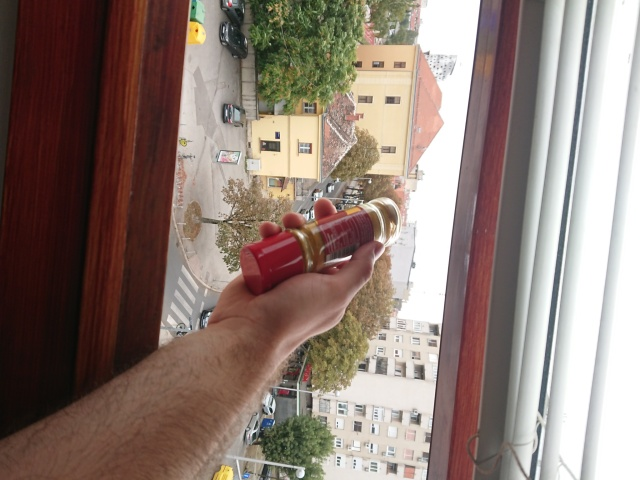Kotanyi Curry Spices Mix 70g: (237, 194, 405, 297)
